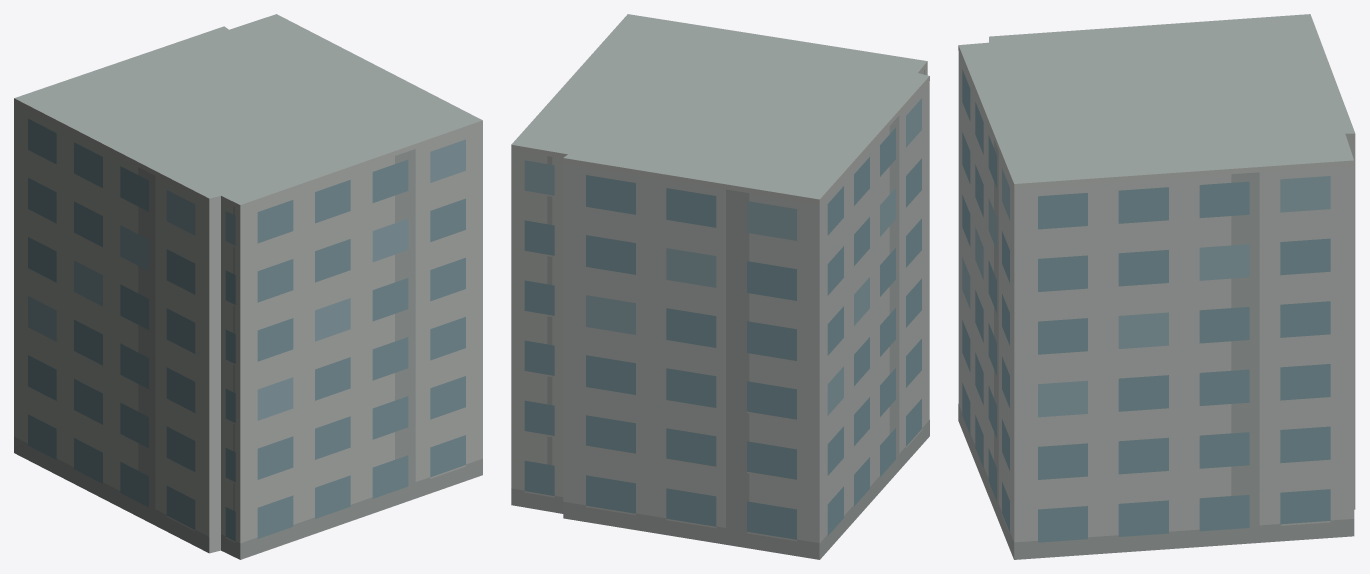
Rendered from survey-upis-32832580.glb.
3 renders of one model, left to right at view 1: azimuth 30°, elevation 25°; view 2: azimuth 150°, elevation 25°; view 3: azimuth 270°, elevation 25°, orthographic. The views are drawn at different scales.
Parts seen in each view (by area): view 1: survey-upis-32832580.tmp; view 2: survey-upis-32832580.tmp; view 3: survey-upis-32832580.tmp.
Part boxes in pixels (<box>): survey-upis-32832580.tmp: <box>14,14,482,559</box>; survey-upis-32832580.tmp: <box>511,14,929,559</box>; survey-upis-32832580.tmp: <box>958,14,1355,559</box>.
Bounding box in the file's own units: 16.8 × 17.31 × 16.58.
